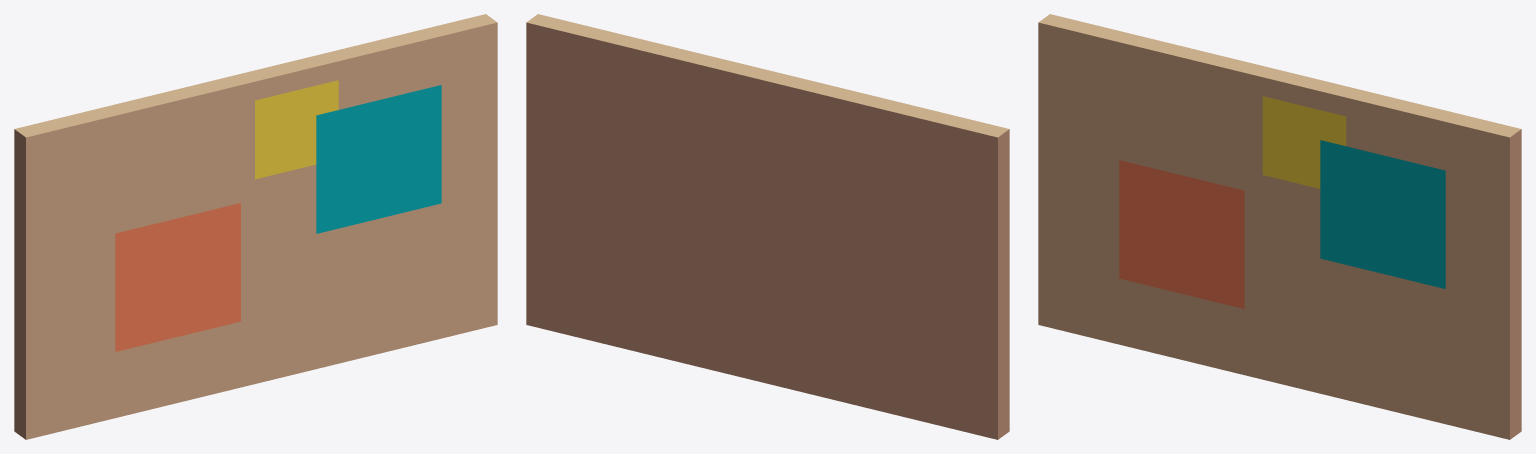
The model's file is Wallpapers.fbx.
3 renders of one model, left to right at view 1: azimuth 30°, elevation 25°; view 2: azimuth 150°, elevation 25°; view 3: azimuth 330°, elevation 25°, orthographic.
Parts seen in each view (by area): view 1: Wallpapers; view 2: Wallpapers; view 3: Wallpapers.
Part boxes in pixels (box(x1,y1,x2,y2)): Wallpapers: box(14, 14, 497, 439); Wallpapers: box(526, 14, 1009, 439); Wallpapers: box(1038, 14, 1521, 439).
Size of the model in its own units: 60.24 by 36.91 by 3.51.
